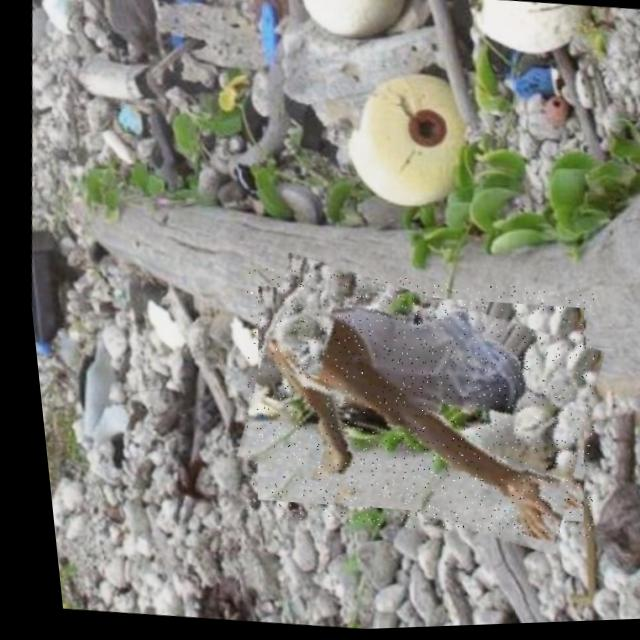Person in Rubble: (214, 258, 608, 553)
